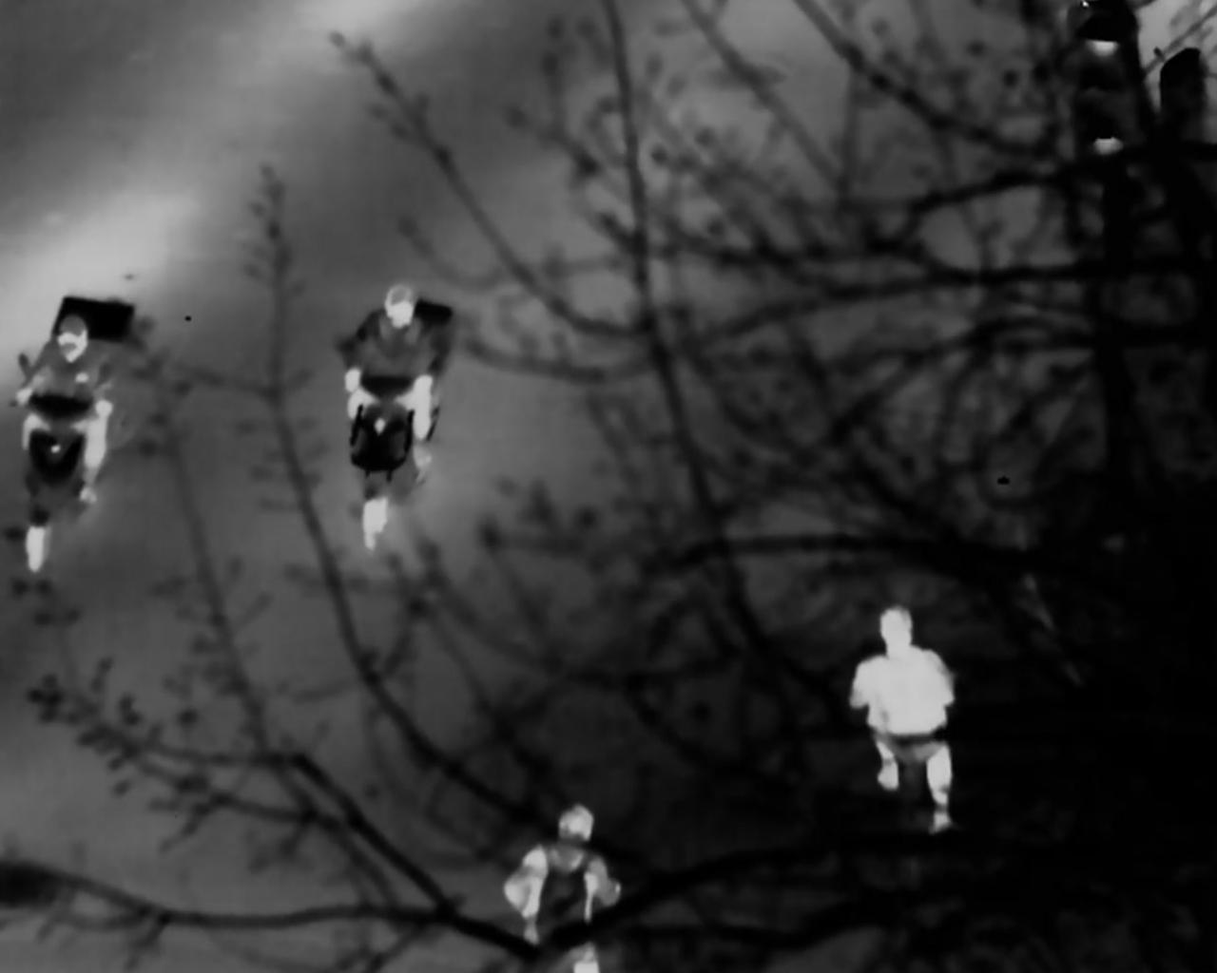person: (835, 597, 974, 815), (357, 281, 450, 547), (8, 324, 108, 512), (511, 809, 624, 973)
